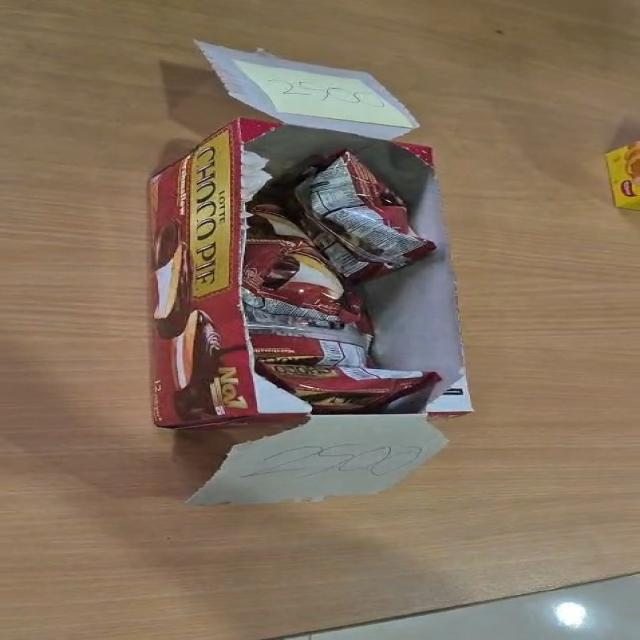Chocopie: (296, 148, 436, 284), (241, 207, 370, 330), (255, 360, 440, 413), (248, 318, 372, 369)
